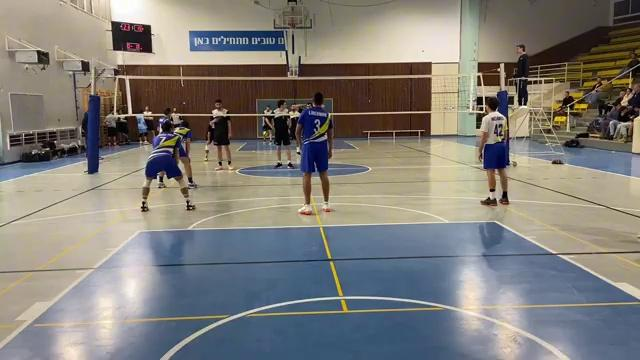ball: (259, 130, 271, 141)
